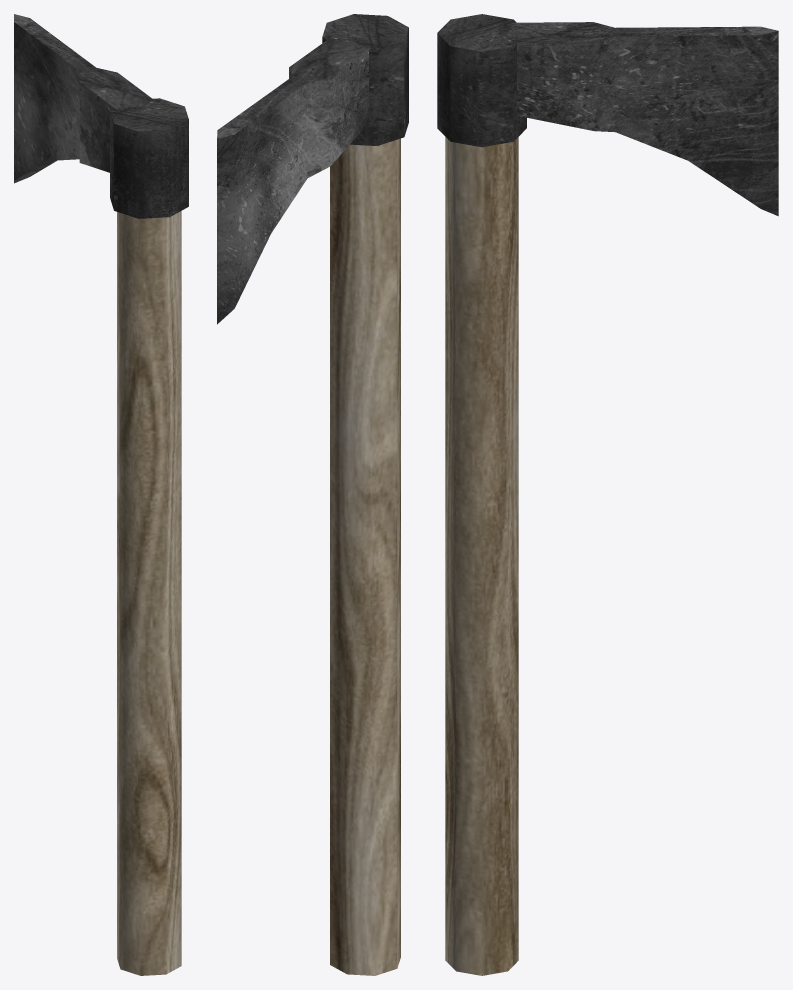
The model's file is Axe.fbx.
The picture shows the model from 3 angles, left to right: view 1: azimuth 30°, elevation 25°; view 2: azimuth 150°, elevation 25°; view 3: azimuth 270°, elevation 25°; orthographic projection. The views are drawn at different scales.
Parts seen in each view (by area): view 1: Cylinder.001; view 2: Cylinder.001; view 3: Cylinder.001.
Part boxes in pixels (left/top/right/bottom): Cylinder.001: left=14, top=14, right=188, bottom=975; Cylinder.001: left=217, top=14, right=408, bottom=975; Cylinder.001: left=437, top=14, right=778, bottom=975.
Size of the model in its own units: 25.29 by 290 by 96.4.
